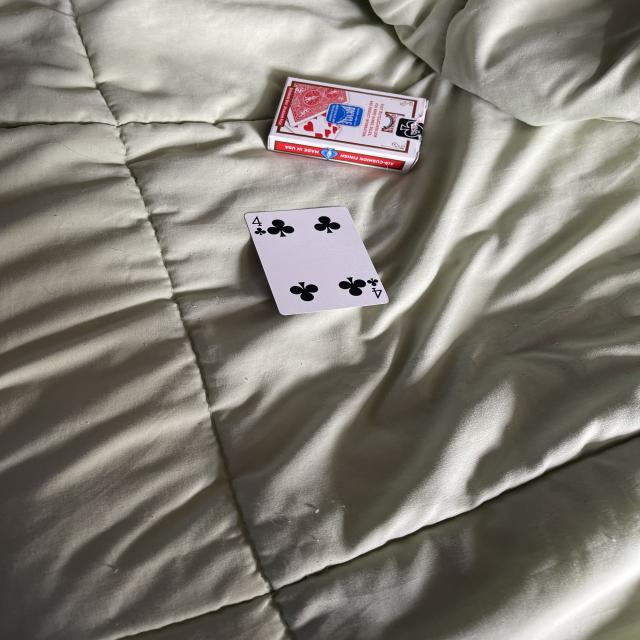4 of clubs: (244, 207, 389, 314)
